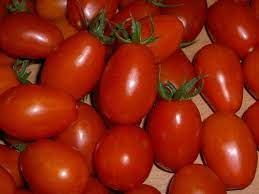tomato: (192, 44, 245, 118), (110, 37, 152, 128), (49, 23, 96, 103), (207, 111, 255, 189), (1, 87, 80, 134), (18, 139, 85, 194), (146, 98, 194, 168), (102, 128, 156, 187)
